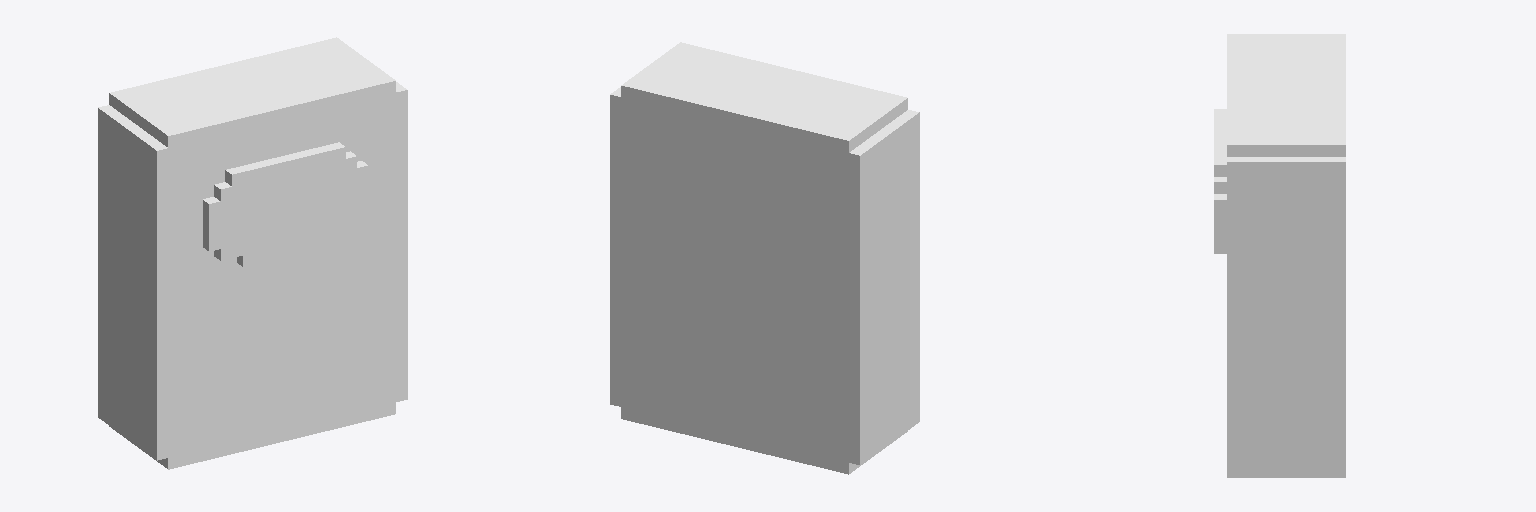
File: Girl-4.obj
3 views of the same model, side by side, from view 1: azimuth 30°, elevation 25°; view 2: azimuth 150°, elevation 25°; view 3: azimuth 270°, elevation 25° (orthographic).
Visible parts, largest first — view 1: object 1; view 2: object 1; view 3: object 1.
Part boxes in pixels (bbox=[...]): object 1: bbox=[98, 37, 407, 469]; object 1: bbox=[610, 42, 919, 474]; object 1: bbox=[1214, 34, 1345, 477].
Bounding box in the file's own units: 2.2 × 2.8 × 1.